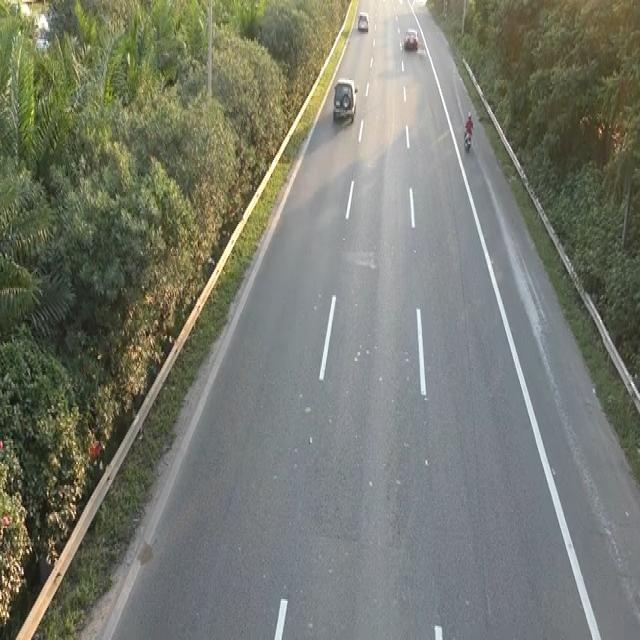bus: (402, 26, 418, 49), (356, 11, 369, 32)
car: (330, 74, 360, 130)
minibus: (462, 123, 473, 151)
